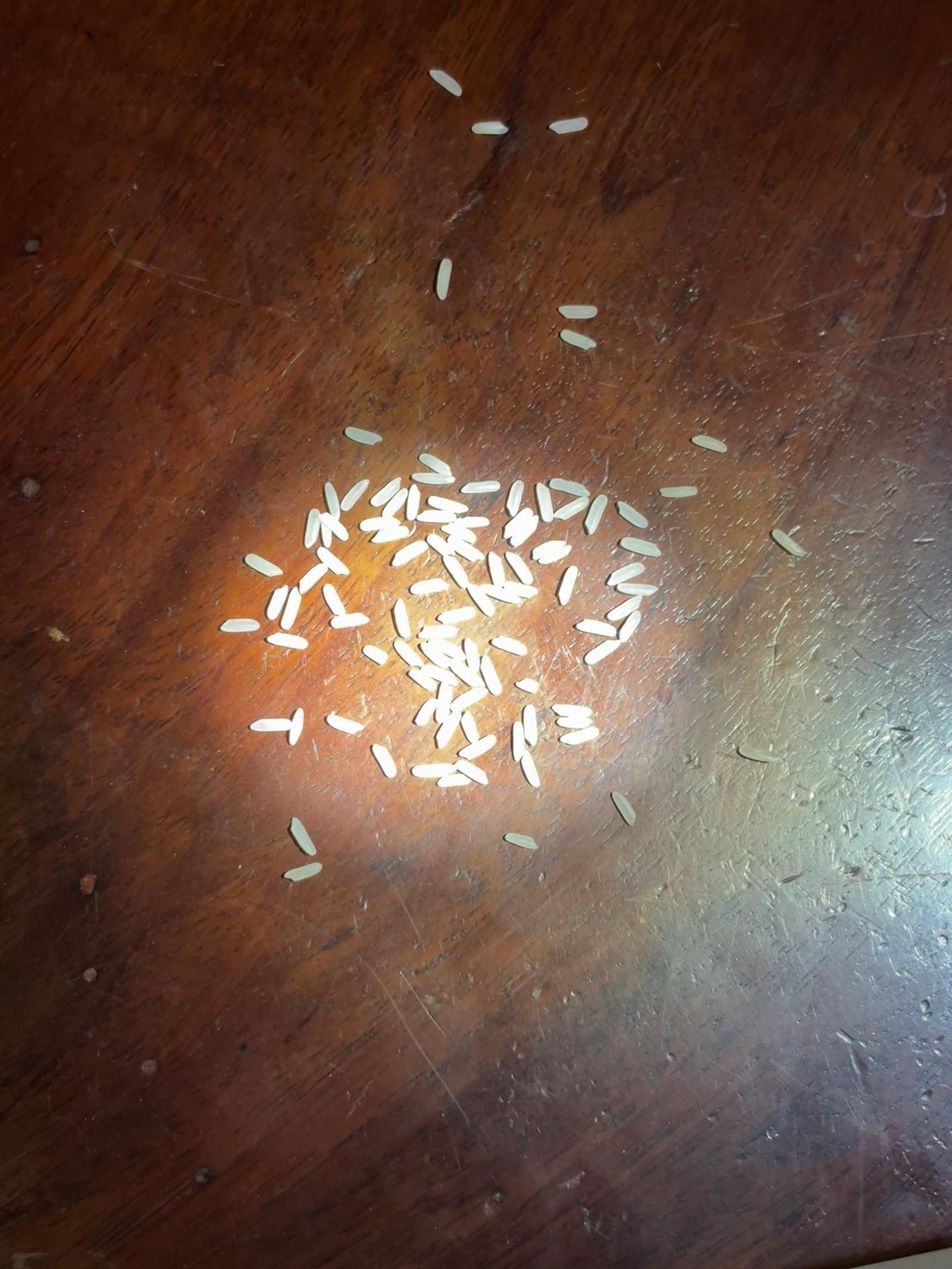Rice-th-y-nh: (449, 658, 485, 689), (289, 817, 317, 856), (447, 535, 485, 563), (435, 710, 462, 749), (466, 582, 496, 617), (479, 654, 504, 696), (505, 551, 535, 585), (392, 540, 428, 568), (426, 637, 466, 662), (370, 477, 402, 508), (393, 638, 425, 669), (420, 662, 458, 688), (429, 68, 463, 97), (519, 705, 543, 746), (772, 529, 807, 557), (455, 758, 490, 786), (606, 562, 645, 587), (607, 595, 643, 622), (611, 790, 638, 826), (412, 760, 456, 782), (584, 639, 621, 665), (451, 686, 488, 712), (340, 479, 370, 511), (298, 562, 328, 594), (503, 507, 533, 539), (511, 515, 540, 548), (433, 682, 456, 723), (507, 721, 530, 762), (584, 495, 608, 534), (460, 734, 496, 760), (317, 547, 349, 576), (481, 583, 521, 606), (442, 554, 469, 588), (420, 641, 451, 670), (557, 566, 580, 605), (281, 588, 302, 630), (550, 476, 590, 498), (245, 554, 283, 577), (617, 501, 649, 528), (371, 524, 410, 546), (520, 749, 542, 788), (372, 744, 397, 778), (419, 453, 453, 478), (320, 512, 349, 541), (554, 496, 589, 520), (267, 631, 309, 651), (620, 537, 661, 557), (302, 509, 323, 548), (491, 634, 528, 656), (381, 489, 408, 519), (266, 585, 289, 620), (552, 700, 592, 720), (561, 725, 599, 746), (486, 552, 508, 588), (535, 483, 555, 522), (576, 619, 617, 638), (537, 544, 572, 566), (322, 584, 346, 616), (416, 506, 456, 525), (428, 495, 468, 514), (360, 514, 400, 533), (393, 599, 412, 638), (549, 116, 588, 135), (330, 611, 369, 630), (327, 714, 364, 734), (435, 258, 453, 299), (444, 522, 477, 544), (323, 482, 342, 520), (560, 330, 596, 350), (556, 713, 592, 733), (504, 579, 538, 600), (619, 610, 641, 642), (439, 606, 476, 625), (460, 711, 481, 744), (414, 698, 438, 726), (427, 533, 455, 557), (408, 669, 437, 692), (285, 863, 322, 881), (506, 480, 525, 515), (221, 617, 260, 634), (345, 427, 381, 445), (692, 435, 728, 453), (463, 638, 481, 673), (412, 471, 454, 486), (288, 708, 305, 745), (411, 578, 448, 595), (505, 832, 538, 851), (616, 582, 657, 597), (448, 515, 489, 530), (405, 484, 422, 520), (420, 623, 457, 639), (471, 120, 508, 136), (461, 480, 500, 495), (559, 304, 597, 319), (251, 718, 291, 732), (363, 644, 389, 665), (438, 772, 470, 789), (660, 485, 698, 499), (515, 677, 540, 694), (320, 521, 334, 548)
